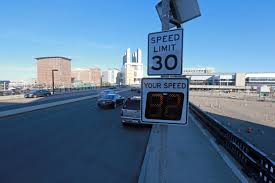speedLimit30: (144, 29, 184, 76)
